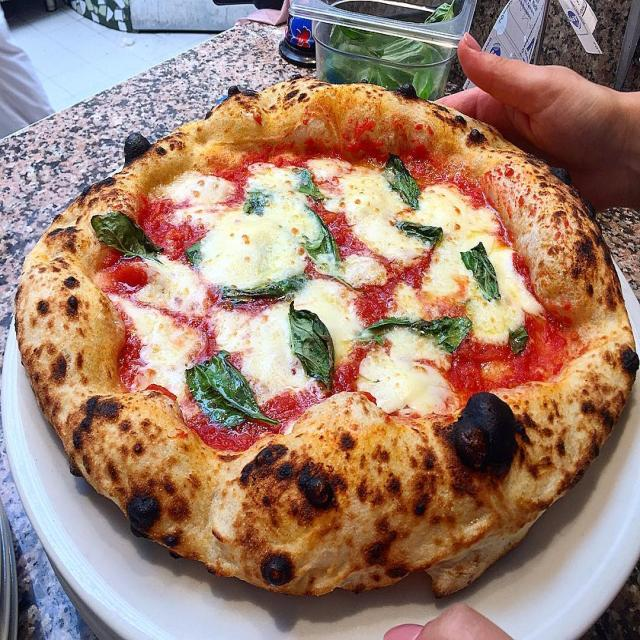basil: (243, 187, 362, 293), (179, 350, 281, 432), (182, 238, 316, 300), (355, 313, 472, 358), (88, 204, 162, 267), (283, 302, 335, 386), (461, 238, 502, 302), (381, 150, 423, 211), (397, 220, 445, 249), (289, 167, 327, 201), (511, 325, 530, 358)
pizza: (12, 71, 640, 601)
